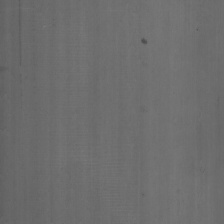inclusion: (140, 28, 151, 49)
